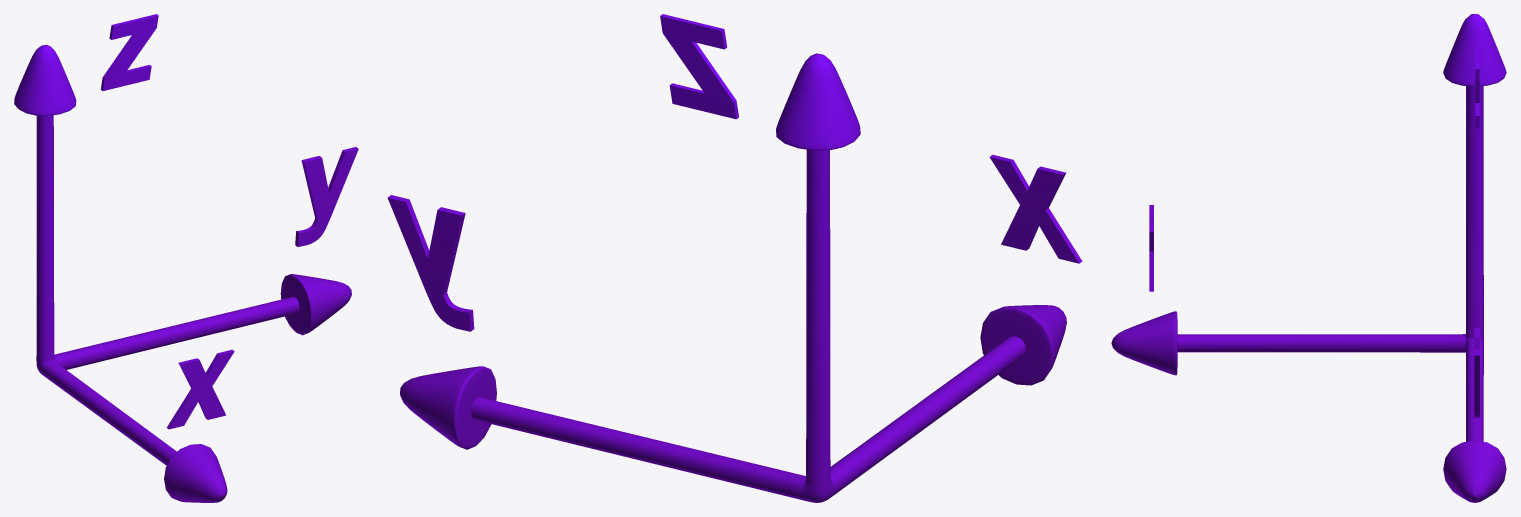
Rendered from Axis_Purple.fbx.
The picture shows the model from 3 angles, left to right: view 1: azimuth 30°, elevation 25°; view 2: azimuth 150°, elevation 25°; view 3: azimuth 270°, elevation 25°; orthographic projection. The views are drawn at different scales.
Visible parts, largest first — view 1: AxisMini_Origin_purple, AxisMini_Origin_purple_y, AxisMini_Origin_purple_z, AxisMini_Origin_purple_x; view 2: AxisMini_Origin_purple, AxisMini_Origin_purple_y, AxisMini_Origin_purple_z, AxisMini_Origin_purple_x; view 3: AxisMini_Origin_purple, AxisMini_Origin_purple_y.
Part boxes in pixels (x1,y1,x2,y2): AxisMini_Origin_purple: (14, 44, 351, 502); AxisMini_Origin_purple_y: (295, 147, 358, 246); AxisMini_Origin_purple_z: (100, 14, 158, 90); AxisMini_Origin_purple_x: (166, 349, 234, 429); AxisMini_Origin_purple: (400, 53, 1066, 502); AxisMini_Origin_purple_y: (387, 195, 474, 331); AxisMini_Origin_purple_z: (660, 14, 738, 119); AxisMini_Origin_purple_x: (989, 155, 1082, 263); AxisMini_Origin_purple: (1111, 14, 1506, 502); AxisMini_Origin_purple_y: (1474, 328, 1479, 417).
Size of the model in its own units: 20.27 by 19.5 by 19.41.
